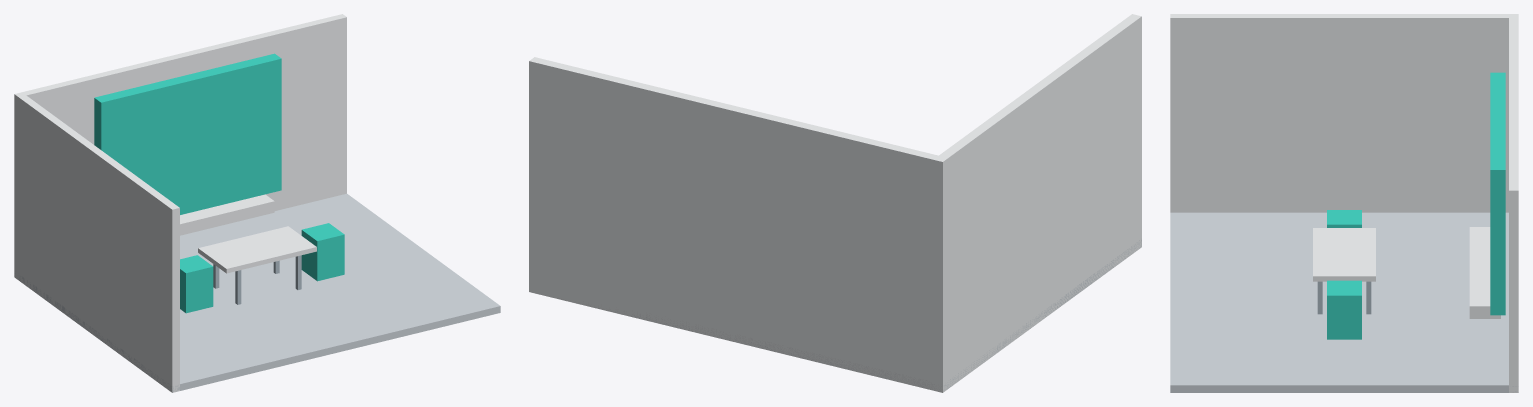
3 renders of one model, left to right at view 1: azimuth 30°, elevation 25°; view 2: azimuth 150°, elevation 25°; view 3: azimuth 270°, elevation 25°, orthographic. The views are drawn at different scales.
Visible parts, largest first — view 1: Exhibition Booth Concept; view 2: Exhibition Booth Concept; view 3: Exhibition Booth Concept.
Boxes of the visible parts, bbox=[...] form: Exhibition Booth Concept: bbox=[14, 14, 500, 392]; Exhibition Booth Concept: bbox=[529, 14, 1141, 392]; Exhibition Booth Concept: bbox=[1170, 14, 1518, 392].
Bounding box in the file's own units: 6 × 3.2 × 5.
